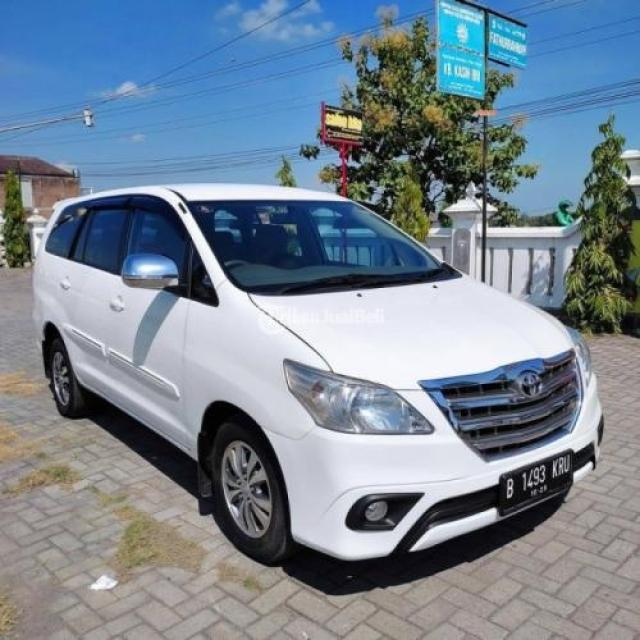light_vehicle: (31, 183, 606, 567)
